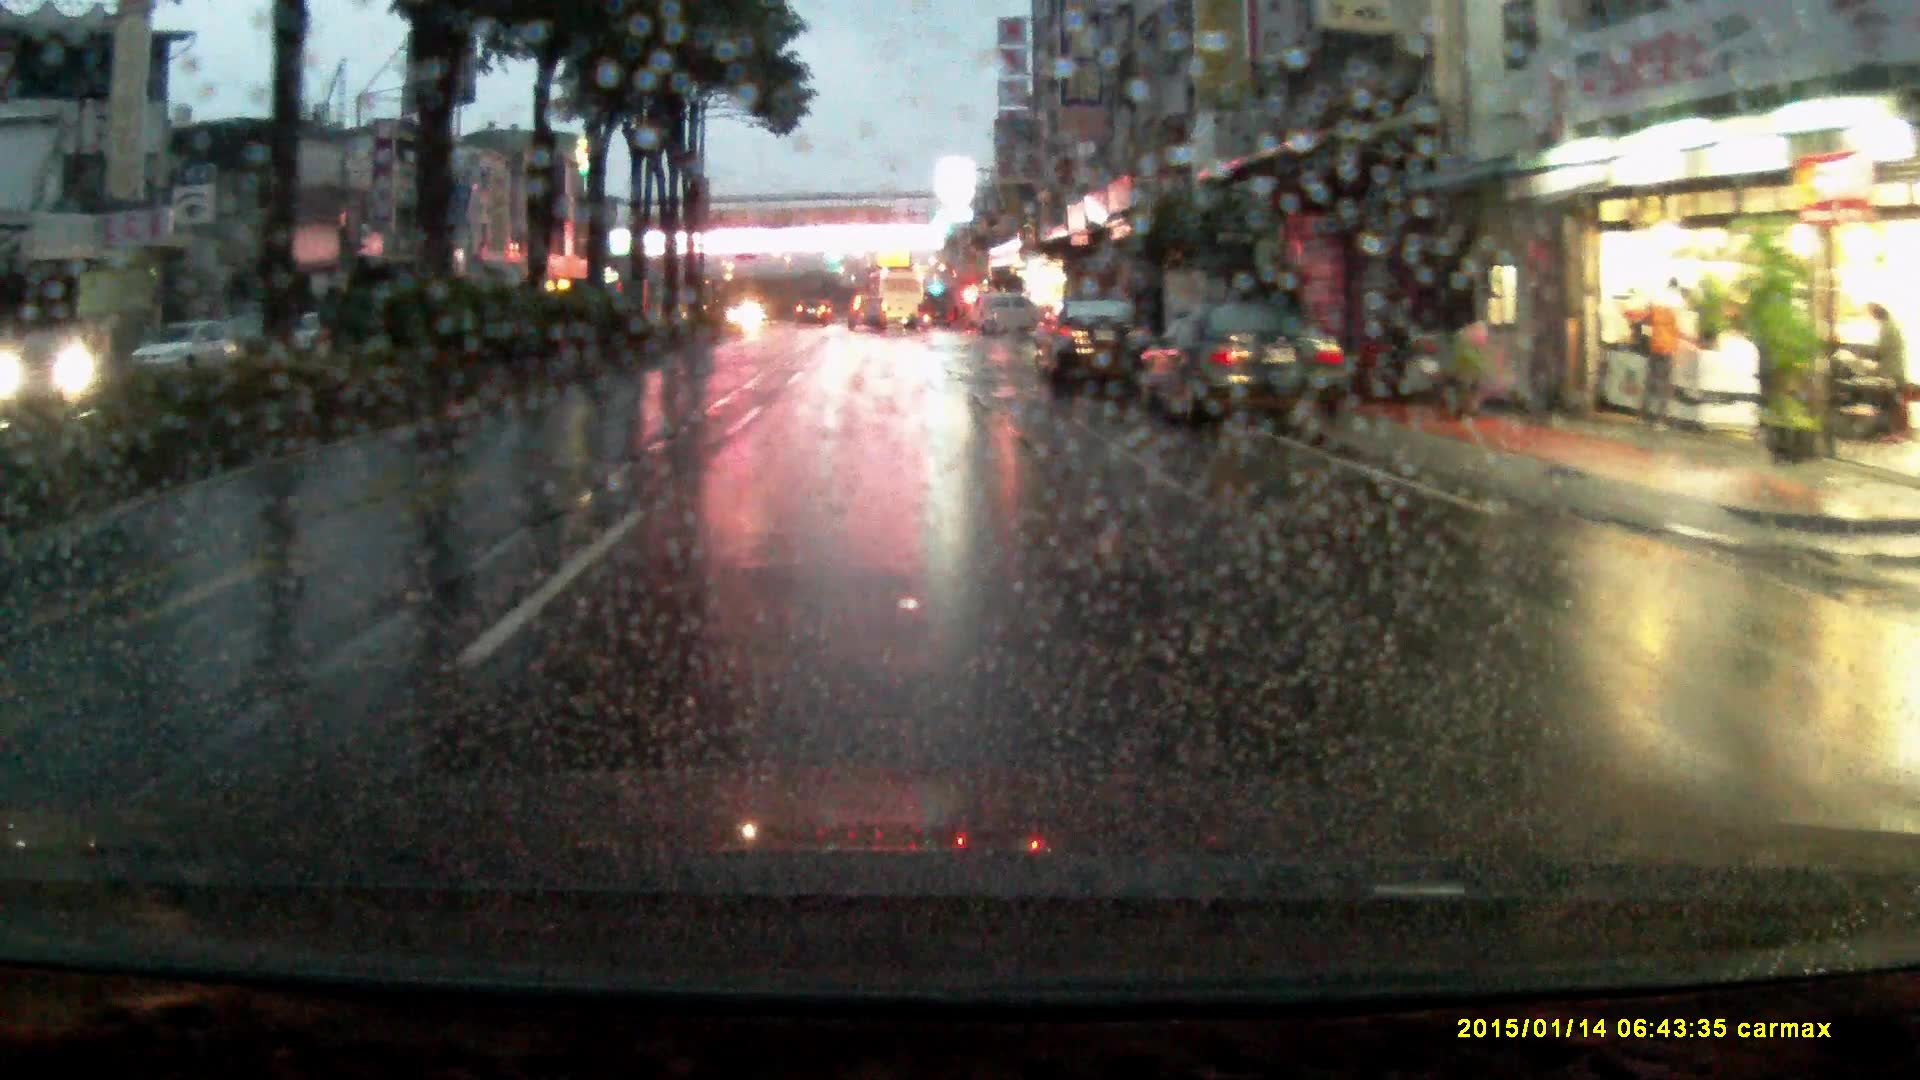vehicle: (1129, 303, 1354, 436), (1042, 298, 1162, 407), (131, 316, 251, 386), (969, 295, 1051, 342), (866, 274, 924, 334), (848, 294, 887, 334), (796, 301, 829, 328)
